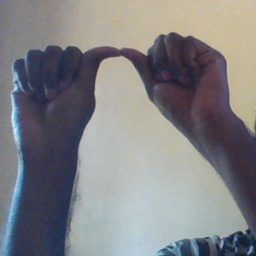A: (11, 30, 230, 153)
